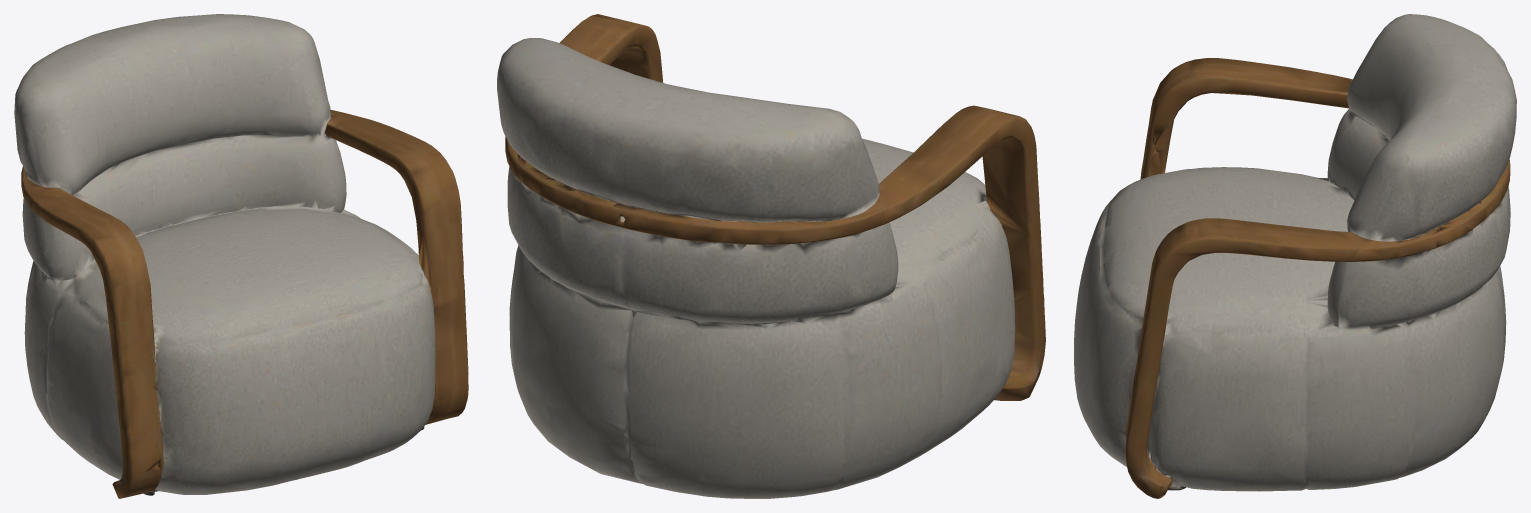
Rendered from DUHufYllUB8W4h3-ZOBQd.glb.
The picture shows the model from 3 angles, left to right: view 1: azimuth 30°, elevation 25°; view 2: azimuth 150°, elevation 25°; view 3: azimuth 270°, elevation 25°; orthographic projection. The views are drawn at different scales.
Visible parts, largest first — view 1: geometry_0; view 2: geometry_0; view 3: geometry_0.
Part boxes in pixels (box(x1,y1,x2,y2)): geometry_0: box(14, 14, 468, 498); geometry_0: box(497, 14, 1045, 498); geometry_0: box(1074, 14, 1516, 498).
Size of the model in its own units: 0.9717 by 0.8847 by 1.
Materials: 1 (1 with a texture image).
